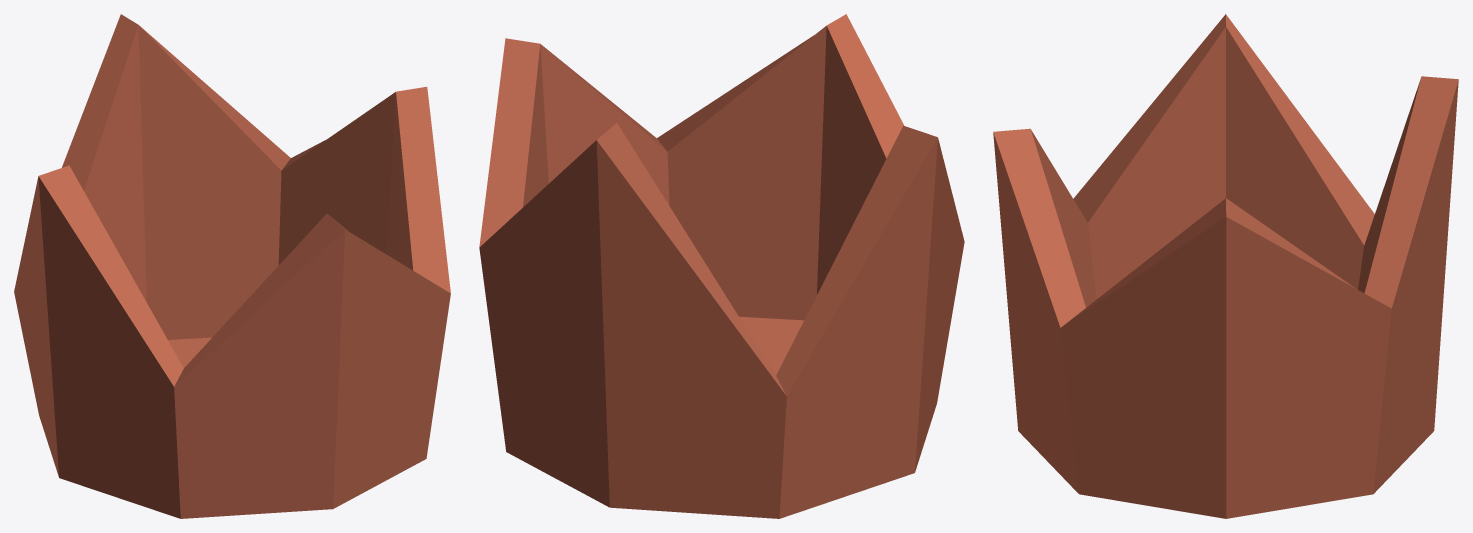
Rendered from Maseta Rota pequeña.fbx.
3 views of the same model, side by side, from view 1: azimuth 30°, elevation 25°; view 2: azimuth 150°, elevation 25°; view 3: azimuth 270°, elevation 25° (orthographic). The views are drawn at different scales.
Visible parts, largest first — view 1: polySurface482; view 2: polySurface482; view 3: polySurface482.
Part boxes in pixels (left/top/right/bottom): polySurface482: left=14, top=14, right=450, bottom=518; polySurface482: left=479, top=14, right=964, bottom=518; polySurface482: left=993, top=14, right=1458, bottom=518.
Size of the model in its own units: 2.11 by 1.78 by 2.11.
